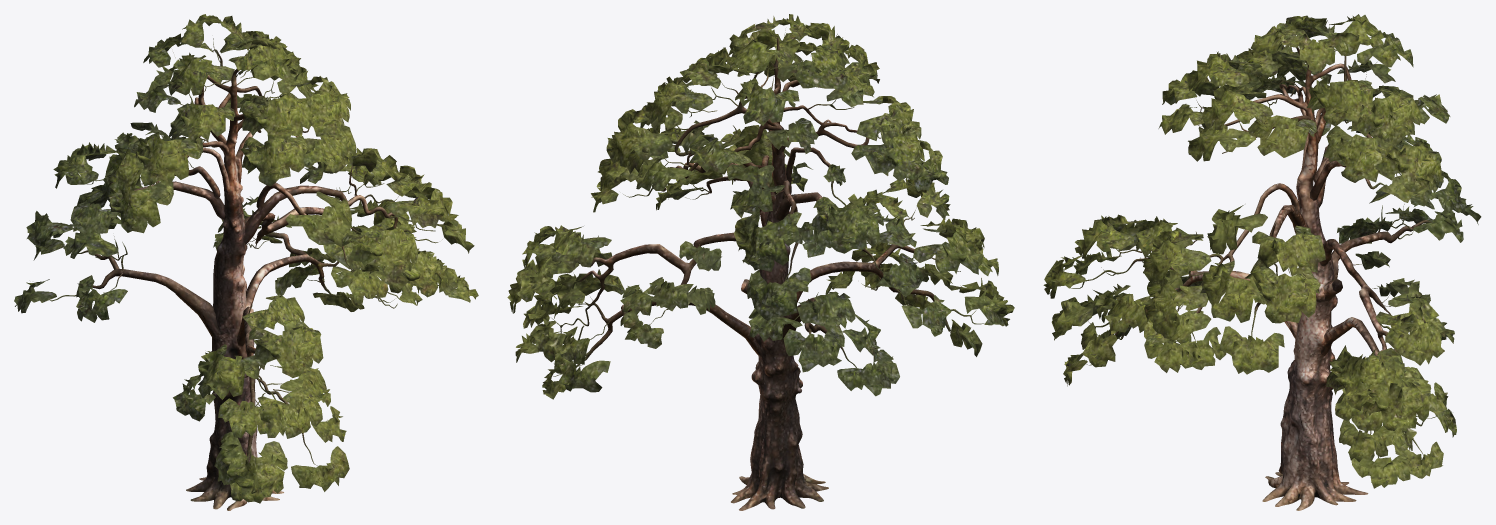
Rendered from tree_2.glb.
3 renders of one model, left to right at view 1: azimuth 30°, elevation 25°; view 2: azimuth 150°, elevation 25°; view 3: azimuth 270°, elevation 25°, orthographic. The views are drawn at different scales.
Parts seen in each view (by area): view 1: tripo_node_68b02905-d2ae-4c77-abdc-b713cde8af29; view 2: tripo_node_68b02905-d2ae-4c77-abdc-b713cde8af29; view 3: tripo_node_68b02905-d2ae-4c77-abdc-b713cde8af29.
Part boxes in pixels (x1,y1,x2,y2): tripo_node_68b02905-d2ae-4c77-abdc-b713cde8af29: (14, 14, 478, 510); tripo_node_68b02905-d2ae-4c77-abdc-b713cde8af29: (507, 14, 1014, 510); tripo_node_68b02905-d2ae-4c77-abdc-b713cde8af29: (1043, 14, 1481, 510).
Size of the model in its own units: 0.8911 by 0.9995 by 0.8452.
1 material, 1 textured.
